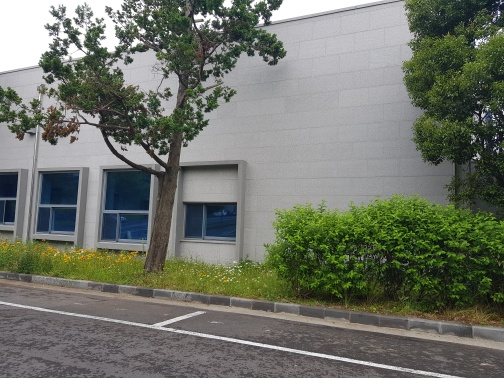College of Social Sciences: (7, 17, 470, 275), (29, 155, 154, 260)
